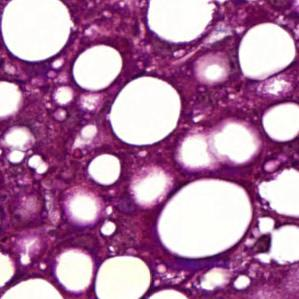steatosis: (156, 180, 256, 258), (110, 74, 184, 146), (73, 43, 123, 90), (55, 247, 97, 291), (87, 152, 123, 186)
